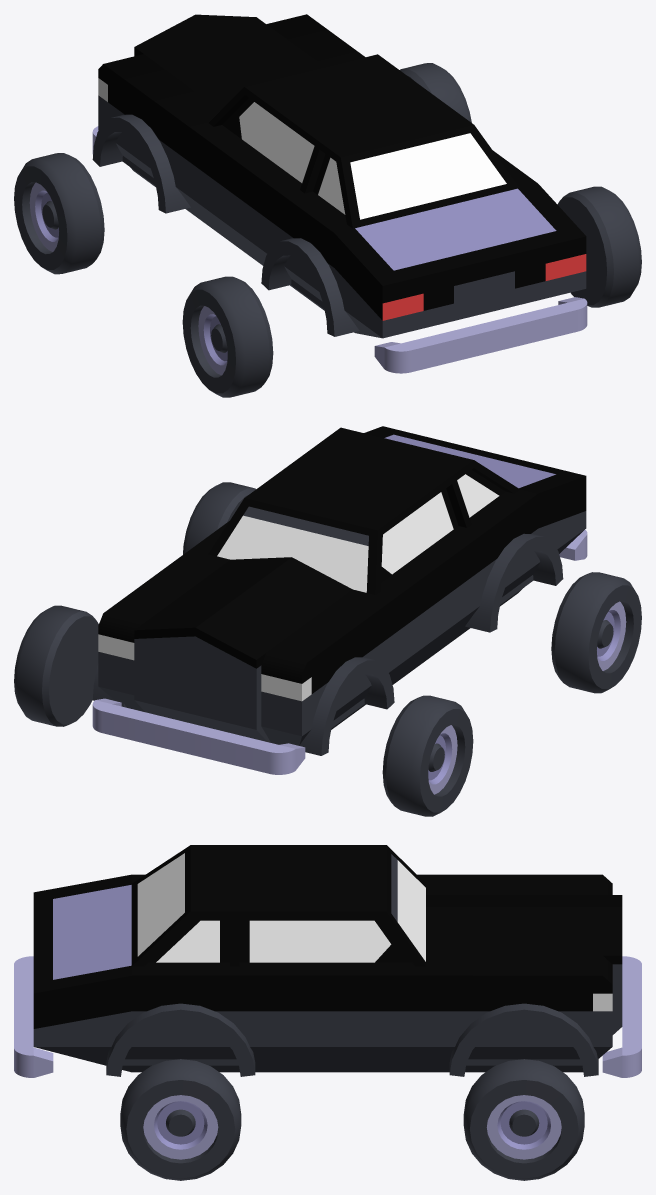
The model's file is blackcar.glb.
The picture shows the model from 3 angles, top to bottom: view 1: azimuth 30°, elevation 25°; view 2: azimuth 150°, elevation 25°; view 3: azimuth 270°, elevation 25°; orthographic projection.
Parts seen in each view (by area): view 1: body_backStandard, wheel_standard (×4), body_frontLuxury, body_topBackStandard, body_topSteep, body_standard, wheel_coverStandard (×2), bumper; view 2: body_frontLuxury, wheel_standard (×4), body_topSteep, body_standard, body_backStandard, wheel_coverStandard (×2), bumper, body_topBackStandard; view 3: body_frontLuxury, body_backStandard, wheel_standard (×2), body_topSteep, body_standard, body_topBackStandard, wheel_coverStandard (×2), bumper (×2).
Part boxes in pixels (left/top/right/bottom): body_backStandard: left=286, top=150, right=586, bottom=338; wheel_standard (×4): left=14, top=63, right=641, bottom=397; body_frontLuxury: left=98, top=14, right=365, bottom=226; body_topBackStandard: left=313, top=111, right=519, bottom=228; body_topSteep: left=209, top=54, right=454, bottom=193; body_standard: left=190, top=123, right=306, bottom=297; wheel_coverStandard (×2): left=92, top=114, right=359, bottom=336; bumper: left=374, top=297, right=587, bottom=373; body_frontLuxury: left=98, top=550, right=393, bottom=745; wheel_standard (×4): left=14, top=482, right=641, bottom=816; body_topSteep: left=208, top=441, right=471, bottom=594; body_standard: left=190, top=521, right=489, bottom=684; body_backStandard: left=364, top=426, right=586, bottom=628; wheel_coverStandard (×2): left=299, top=533, right=563, bottom=755; bumper: left=92, top=698, right=305, bottom=774; body_topBackStandard: left=322, top=427, right=519, bottom=517; body_frontLuxury: left=426, top=874, right=622, bottom=1072; body_backStandard: left=33, top=874, right=229, bottom=1072; wheel_standard (×2): left=120, top=1059, right=584, bottom=1180; body_topSteep: left=230, top=845, right=425, bottom=966; body_standard: left=230, top=874, right=425, bottom=1072; body_topBackStandard: left=131, top=845, right=229, bottom=966; wheel_coverStandard (×2): left=106, top=1003, right=598, bottom=1076; bumper (×2): left=14, top=956, right=641, bottom=1077.
Bounding box in the file's own units: 2.43 × 1.15 × 3.2.
